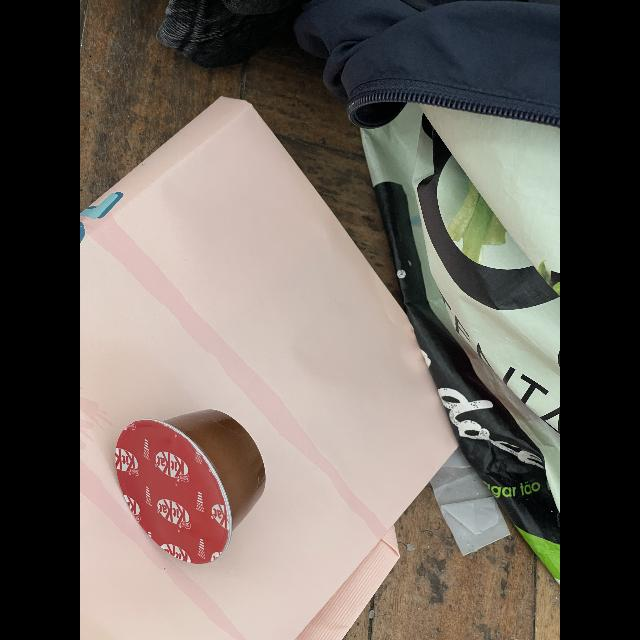intact_capsule: (104, 394, 284, 572)
